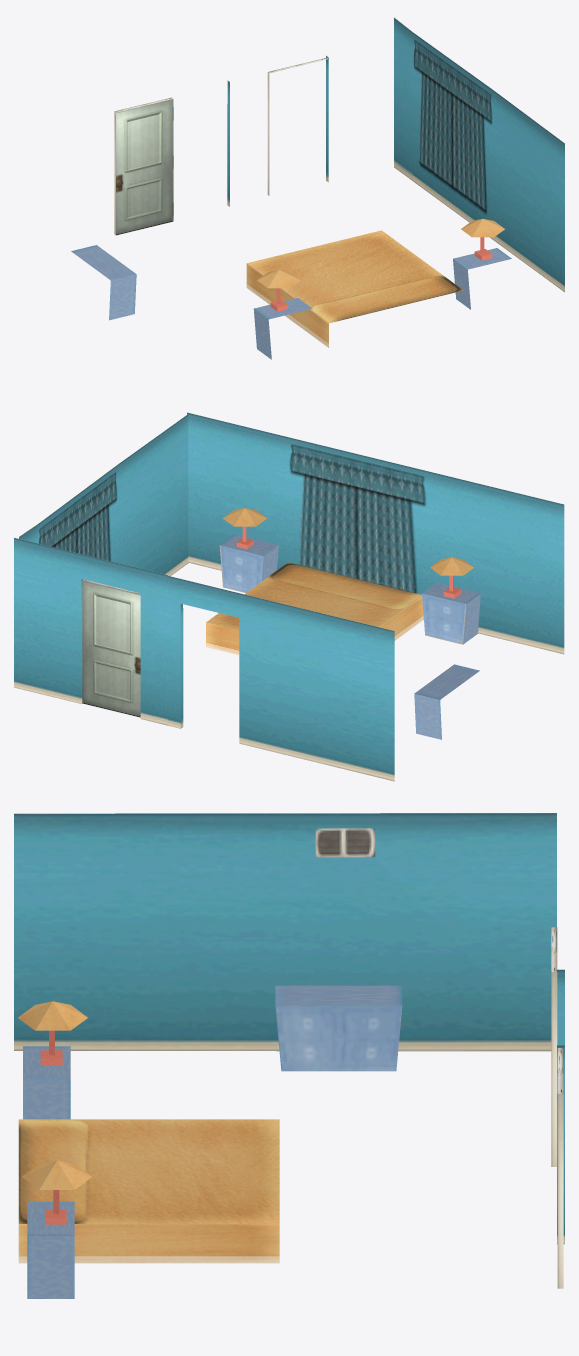
The model's file is Bedroom2.glb.
The picture shows the model from 3 angles, top to bottom: view 1: azimuth 30°, elevation 25°; view 2: azimuth 150°, elevation 25°; view 3: azimuth 270°, elevation 25°; orthographic projection. The views are drawn at different scales.
Visible parts, largest first — view 1: Bedroom2; view 2: Bedroom2; view 3: Bedroom2.
Boxes of the visible parts, <box> form: Bedroom2: <box>71,17,564,359</box>; Bedroom2: <box>14,412,564,781</box>; Bedroom2: <box>14,813,564,1298</box>.
Size of the model in its own units: 1655 by 628 by 1309.
7 materials, 7 textured.
